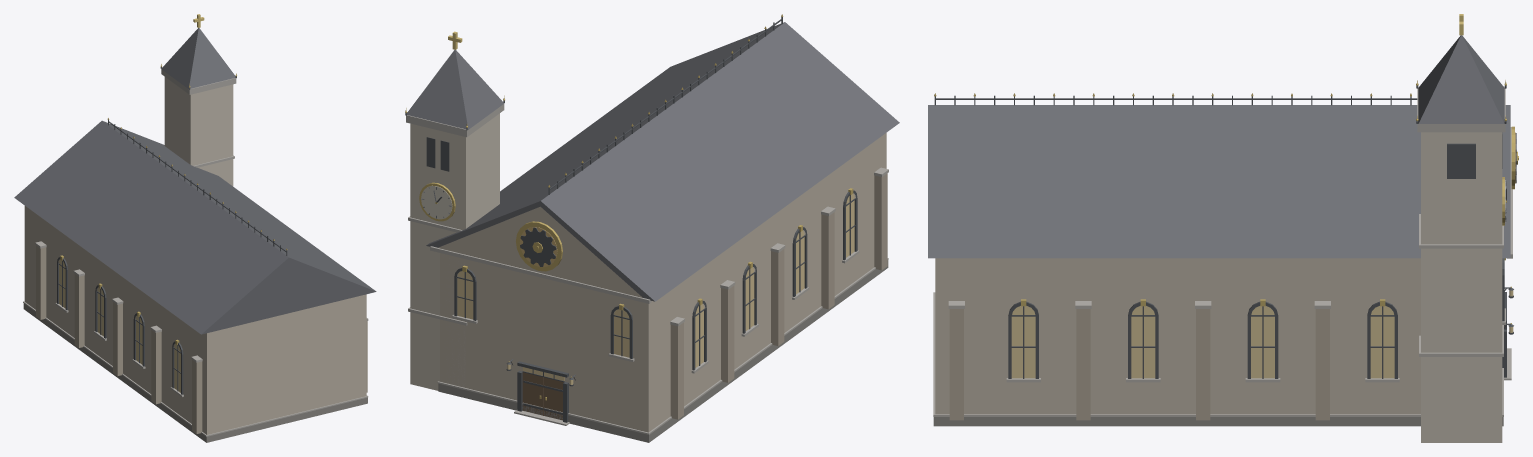
The model's file is centro-igreja-64f81633.glb.
The picture shows the model from 3 angles, left to right: view 1: azimuth 30°, elevation 25°; view 2: azimuth 150°, elevation 25°; view 3: azimuth 270°, elevation 25°; orthographic projection. The views are drawn at different scales.
Visible parts, largest first — view 1: centro_igreja_body, centro_igreja_wall, centro_igreja_lamp; view 2: centro_igreja_body, centro_igreja_wall, centro_igreja_lamp; view 3: centro_igreja_wall, centro_igreja_body, centro_igreja_lamp.
Part boxes in pixels (x1,y1,x2,y2): centro_igreja_body: (14, 28, 376, 436); centro_igreja_wall: (23, 77, 367, 442); centro_igreja_lamp: (59, 259, 180, 392); centro_igreja_body: (405, 14, 899, 434); centro_igreja_wall: (410, 113, 888, 442); centro_igreja_lamp: (457, 194, 854, 384); centro_igreja_wall: (933, 132, 1503, 442); centro_igreja_body: (928, 35, 1518, 416); centro_igreja_lamp: (1011, 132, 1515, 378).
Bounding box in the file's own units: 14.51 × 19 × 24.7.
